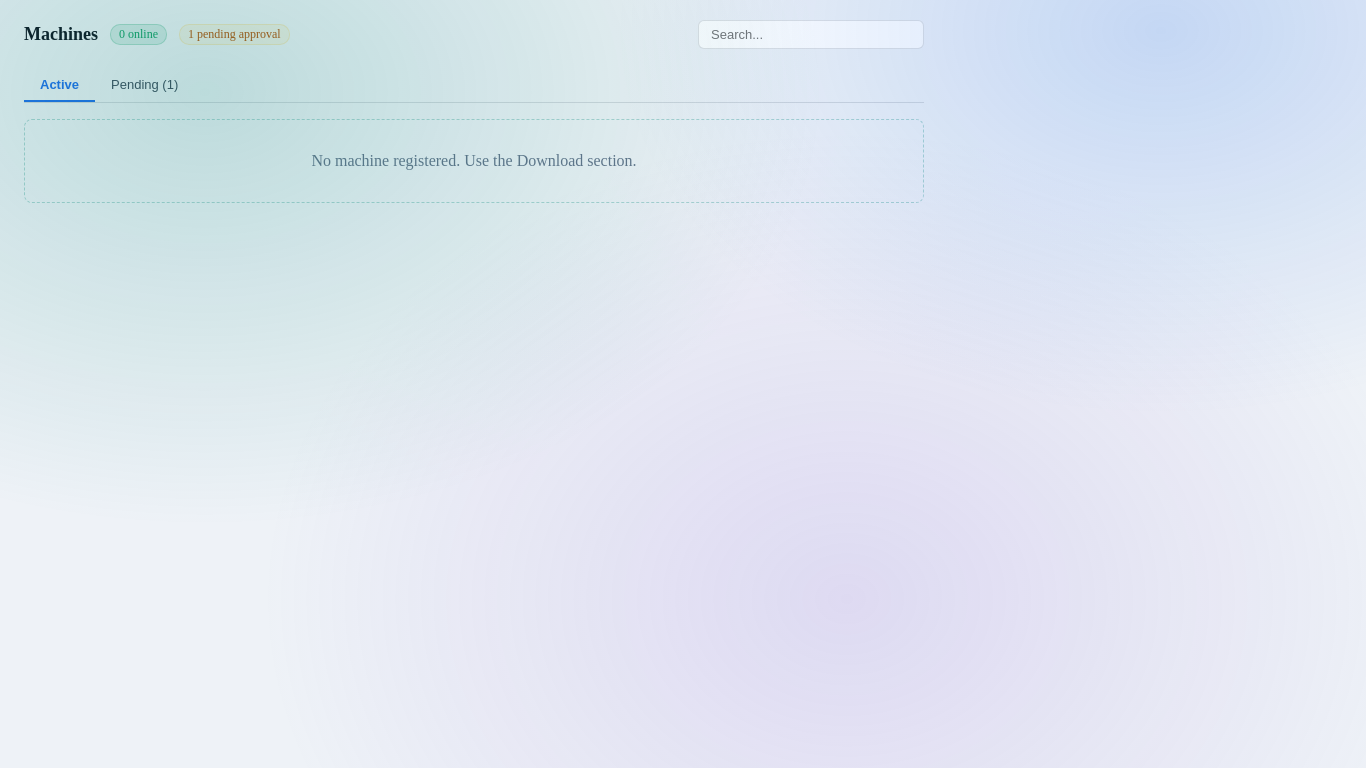
Test: MachinesPage approve/deny › shows an error toast when approve fails, instead of failing with no feedback
Click the button "Pending (1)": (145, 86) 95,69 -> 194,102
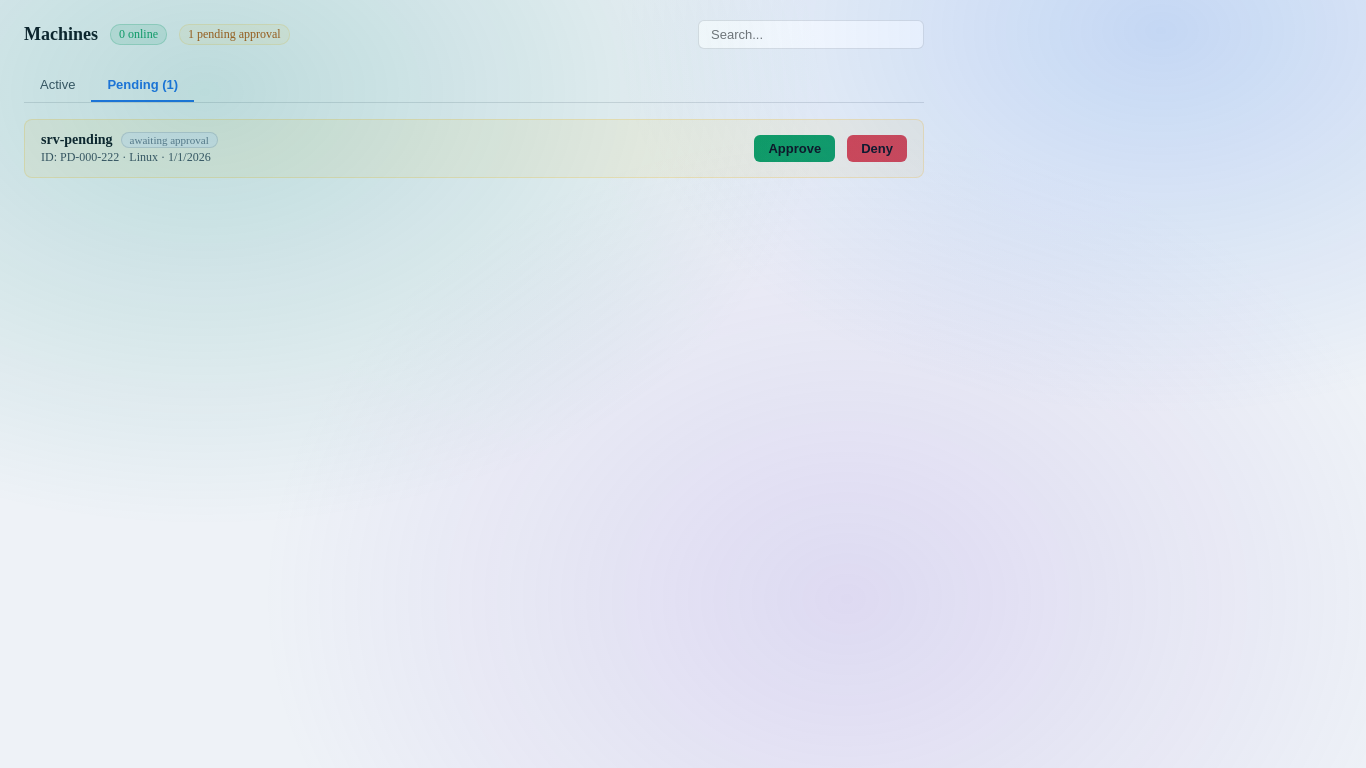
Click the button "Approve": (795, 148) 754,135 -> 835,162
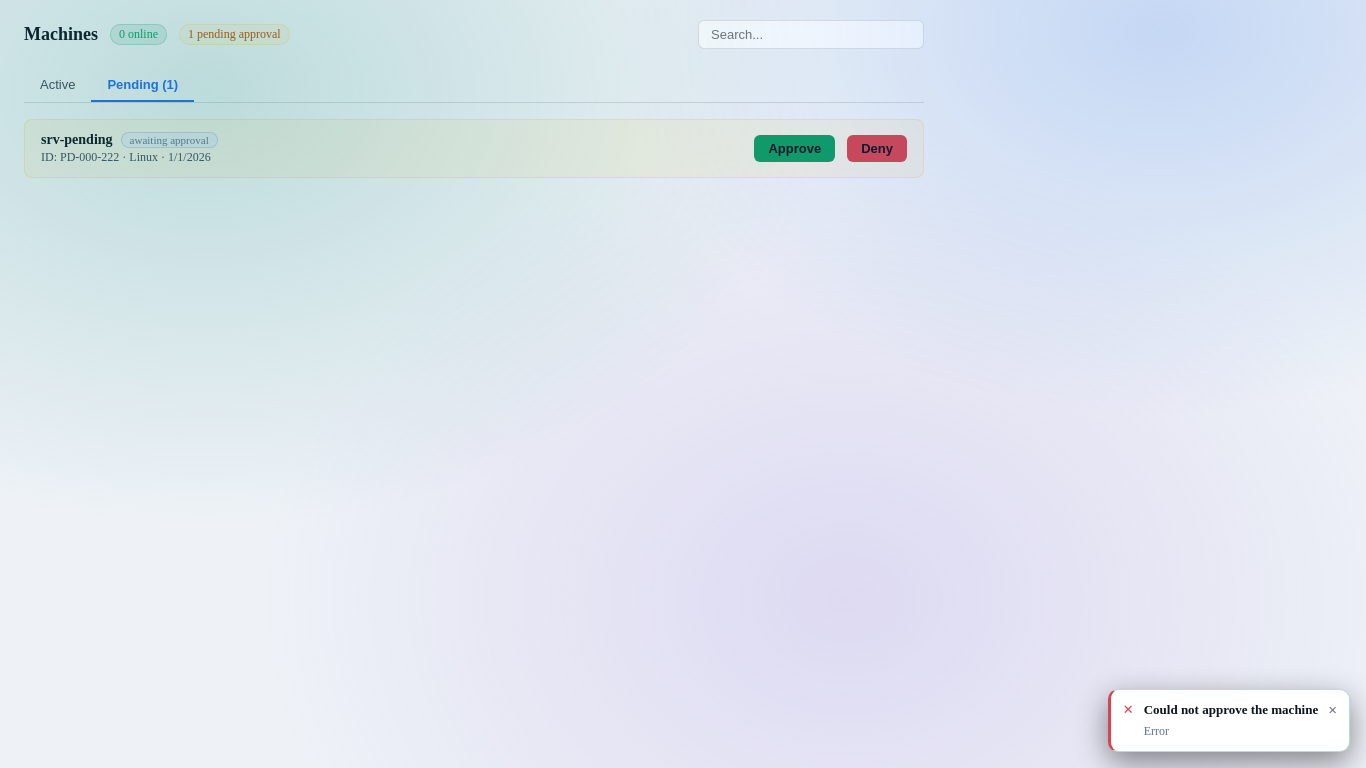
Check: the text "Could not approve the machine" is shown, box 1144,701 -> 1318,720
